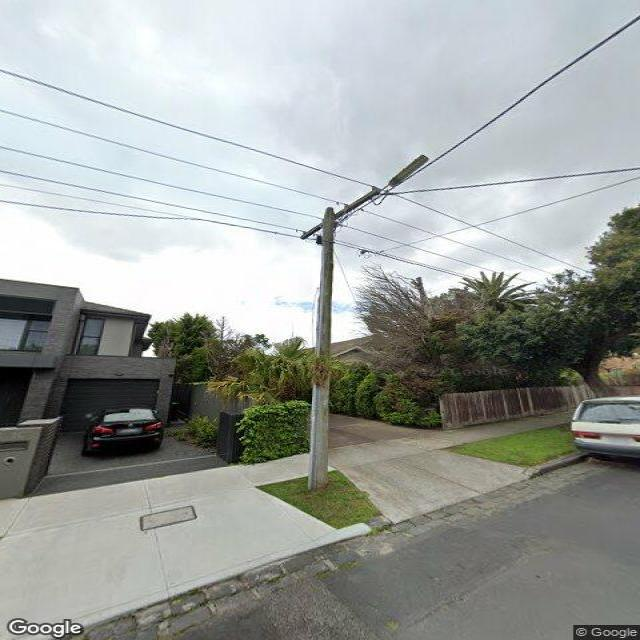crossarm: (299, 186, 386, 241)
mid mount suitable pole: (299, 152, 430, 486)
streetlight: (379, 154, 428, 192)
timber-pole: (306, 206, 337, 487)
